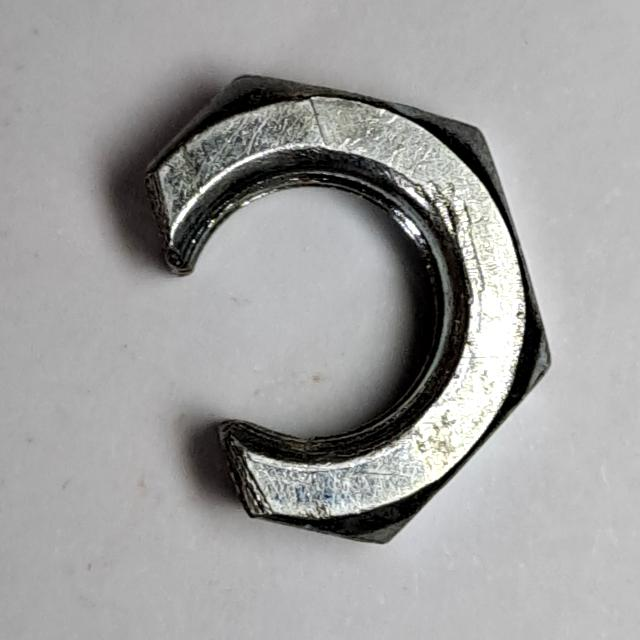Fracture: (132, 62, 563, 566)
